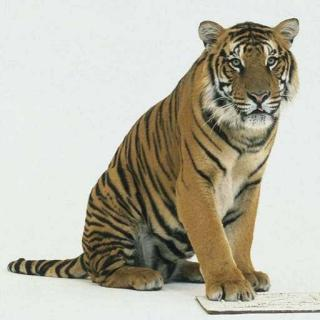Tiger: (9, 12, 301, 302)
